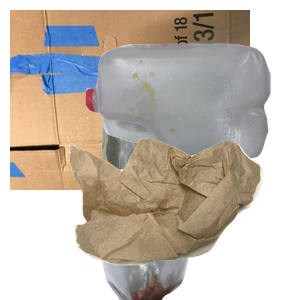cardboard: (10, 10, 250, 190)
glass: (96, 120, 283, 300)
plastic: (83, 41, 300, 194)
trash: (67, 136, 300, 300)
